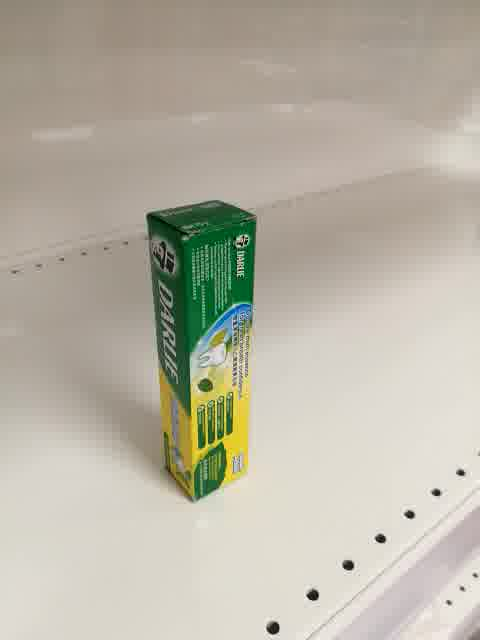toothpaste: (145, 200, 258, 504)
